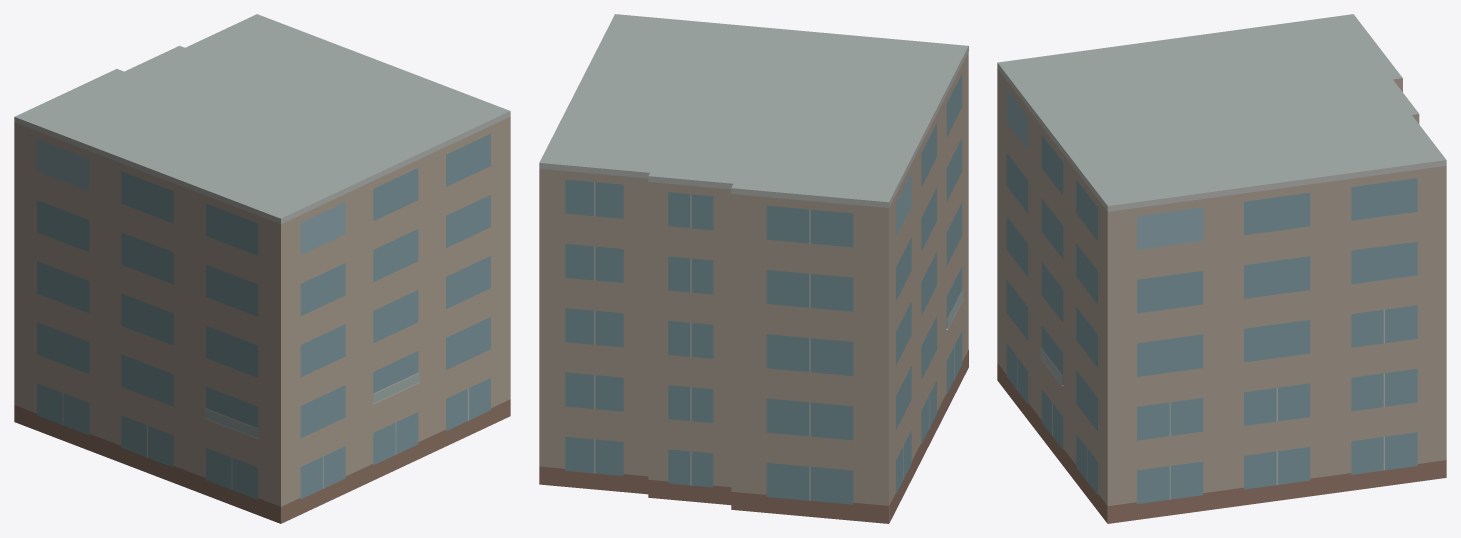
The model's file is survey-upis-32924230.glb.
3 renders of one model, left to right at view 1: azimuth 30°, elevation 25°; view 2: azimuth 150°, elevation 25°; view 3: azimuth 270°, elevation 25°, orthographic. The views are drawn at different scales.
Parts seen in each view (by area): view 1: survey-upis-32924230.tmp; view 2: survey-upis-32924230.tmp; view 3: survey-upis-32924230.tmp.
Part boxes in pixels (x1=…): survey-upis-32924230.tmp: x1=14, y1=14, x2=510, y2=523; survey-upis-32924230.tmp: x1=539, y1=14, x2=968, y2=523; survey-upis-32924230.tmp: x1=997, y1=14, x2=1446, y2=523.
Bounding box in the file's own units: 17.45 × 13.45 × 17.24.
